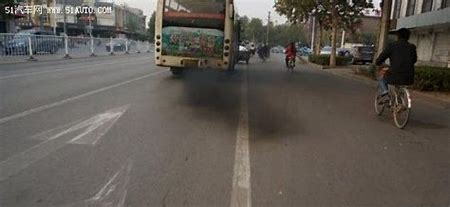smoke: (175, 69, 283, 130)
